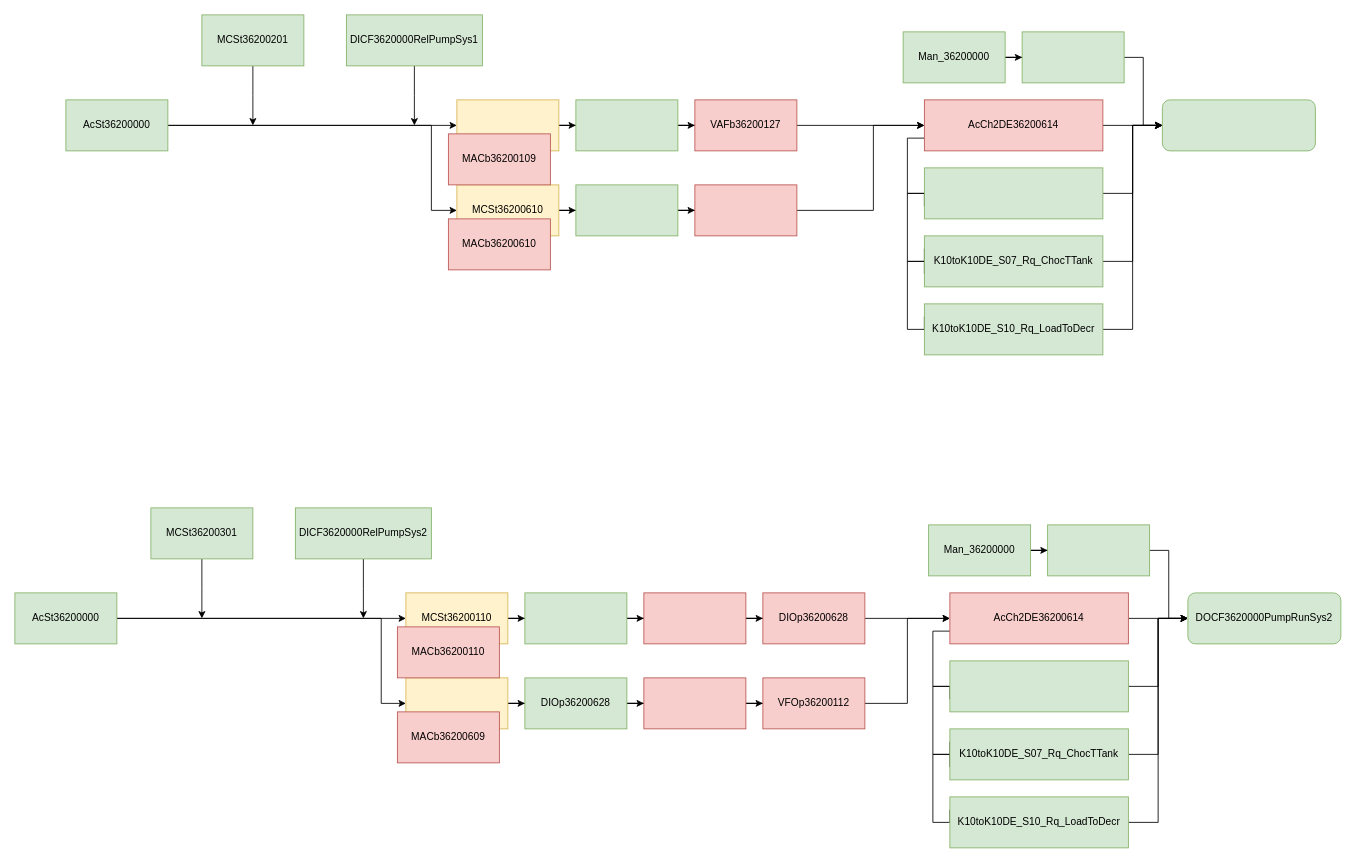
Some shapes in this 1356 by 863 pixel diagram are drawn without their labels. Here are the shapes that lost their labels. From the top down, the centre of each, then its label:
At point (1072, 57): "MStCF3620000Sys1".
At point (507, 125): "MCSt36200109".
At point (626, 125): "DIOp36200127".
At point (1238, 125): "DOCF3620000PumpRunSys1".
At point (626, 210): "DIOp36200627".
At point (745, 210): "VAFb36200627".
At point (1013, 193): "K10toK10DE_S06_1_Rq_LoadToTT1".
At point (1098, 550): "MStCF3620000Sys2".
At point (575, 618): "VCOp36200112".
At point (694, 618): "VAFb36200112".
At point (456, 703): "MCSt36200609".
At point (694, 703): "VAFb36200628".
At point (1038, 686): "K10toK10DE_S06_2_Rq_LoadToTT2".
